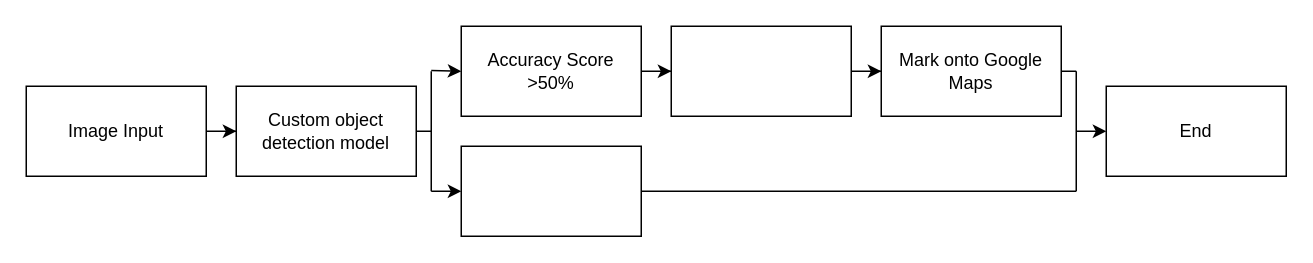
Some shapes in this 1313 by 263 pixel diagram are drawn without their labels. The shapes that lost their labels are listed below. From the top down, each one's centre as x and y in pixels, then its label:
(760,70): Get Coordinates with permission
(550,190): Accuracy Score < 50%
